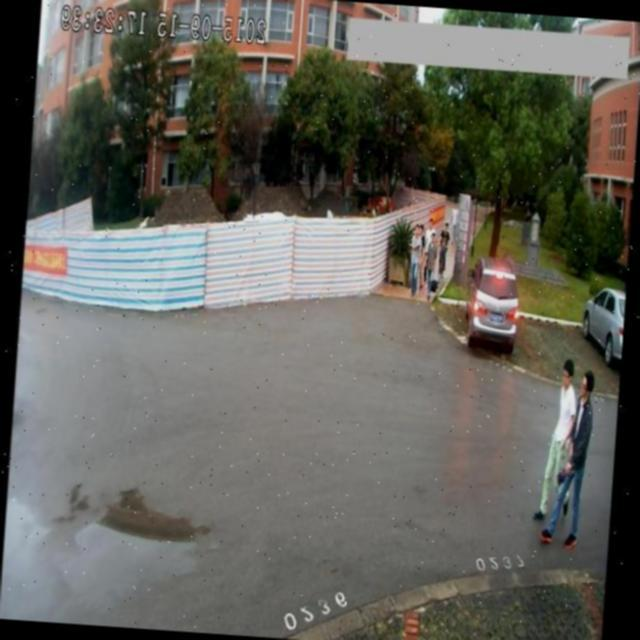person: (562, 364, 598, 552), (538, 351, 574, 487), (405, 222, 421, 298), (423, 232, 435, 304), (436, 220, 449, 281), (448, 199, 459, 248), (423, 212, 434, 238)
